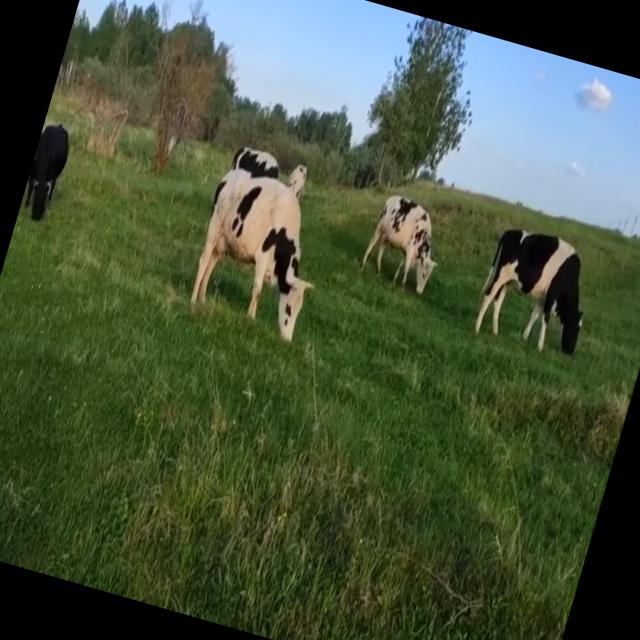cow: (190, 148, 311, 340), (475, 229, 582, 355), (362, 195, 435, 292), (25, 124, 67, 218)
